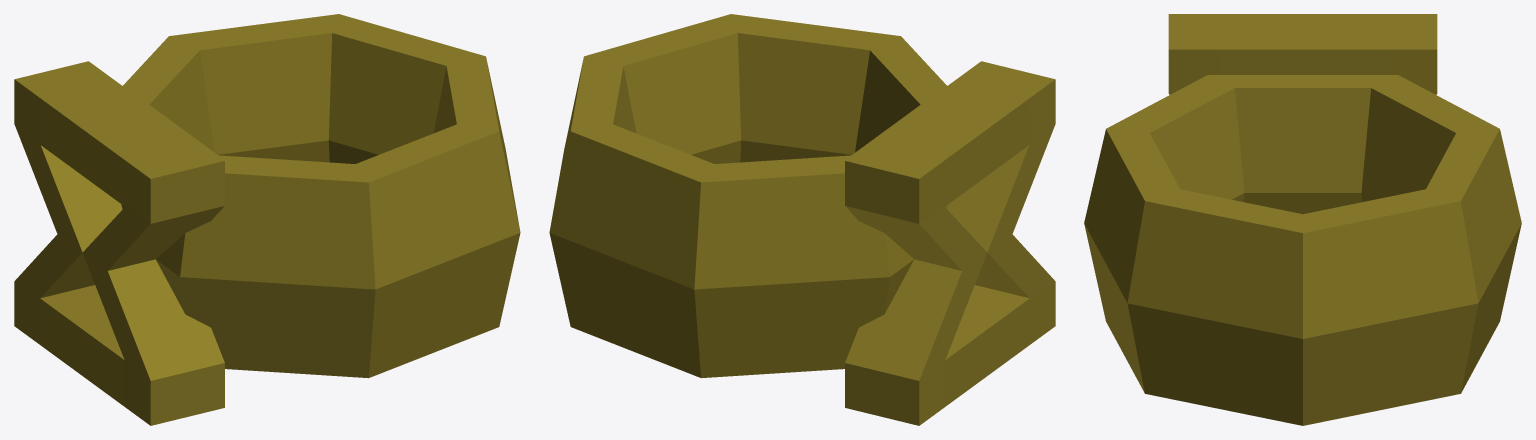
Rendered from draupnir.fbx.
The picture shows the model from 3 angles, left to right: view 1: azimuth 30°, elevation 25°; view 2: azimuth 150°, elevation 25°; view 3: azimuth 270°, elevation 25°; orthographic projection.
Parts seen in each view (by area): view 1: Torus.001; view 2: Torus.001; view 3: Torus.001.
Boxes of the visible parts, box(x1,y1,x2,y2) form: Torus.001: box(14, 14, 520, 425); Torus.001: box(549, 14, 1055, 425); Torus.001: box(1084, 14, 1521, 425).
Size of the model in its own units: 53.63 by 29.9 by 48.75.
